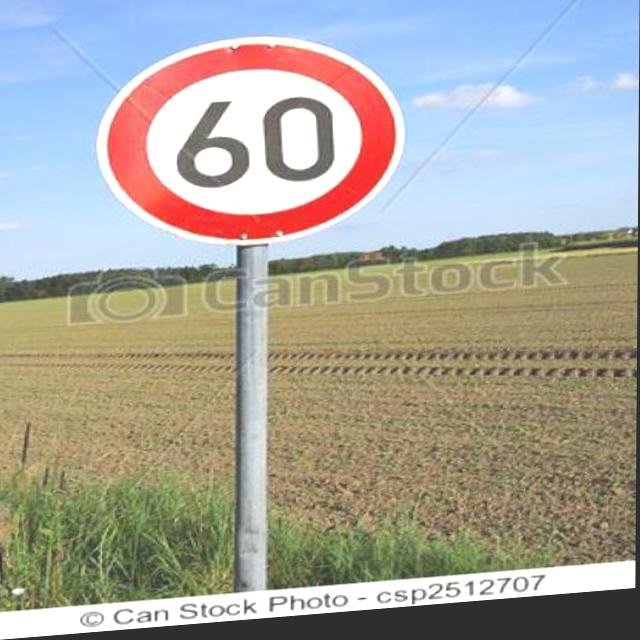limit60: (94, 23, 410, 260)
